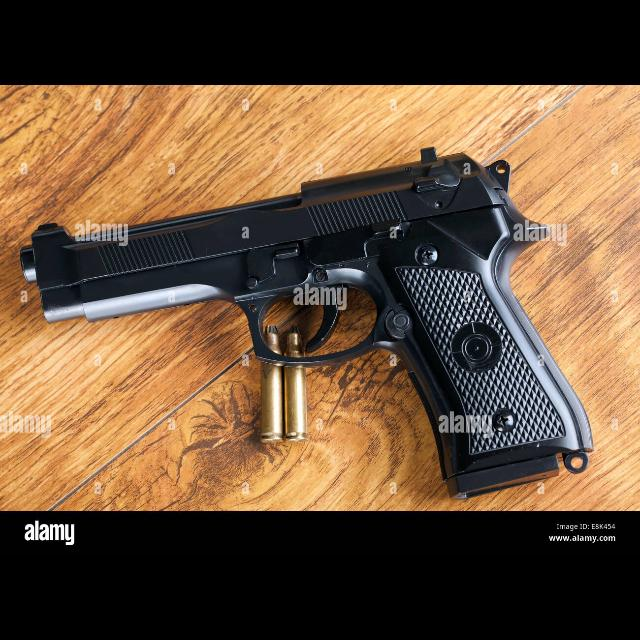handgun: (15, 139, 597, 501)
